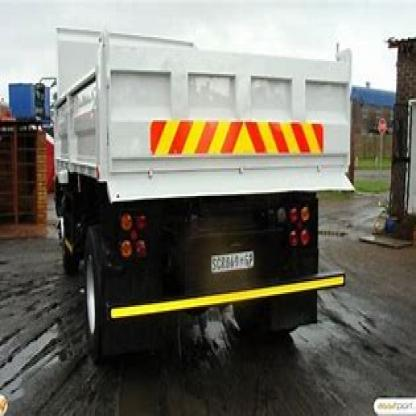dump_truck: (38, 17, 354, 356)
